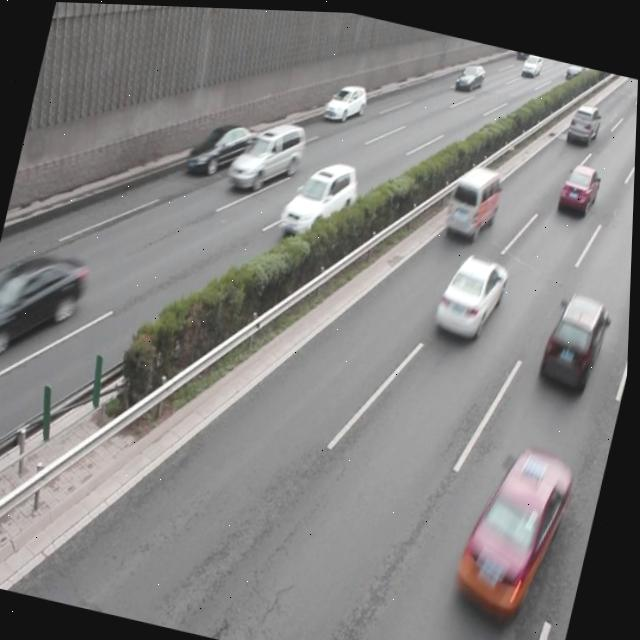car: (448, 428, 581, 626), (0, 239, 94, 365), (277, 150, 365, 245), (537, 281, 613, 390), (432, 243, 513, 343), (184, 111, 260, 186), (555, 154, 603, 217), (324, 77, 369, 124)
truck: (225, 107, 309, 199), (441, 155, 508, 239)
